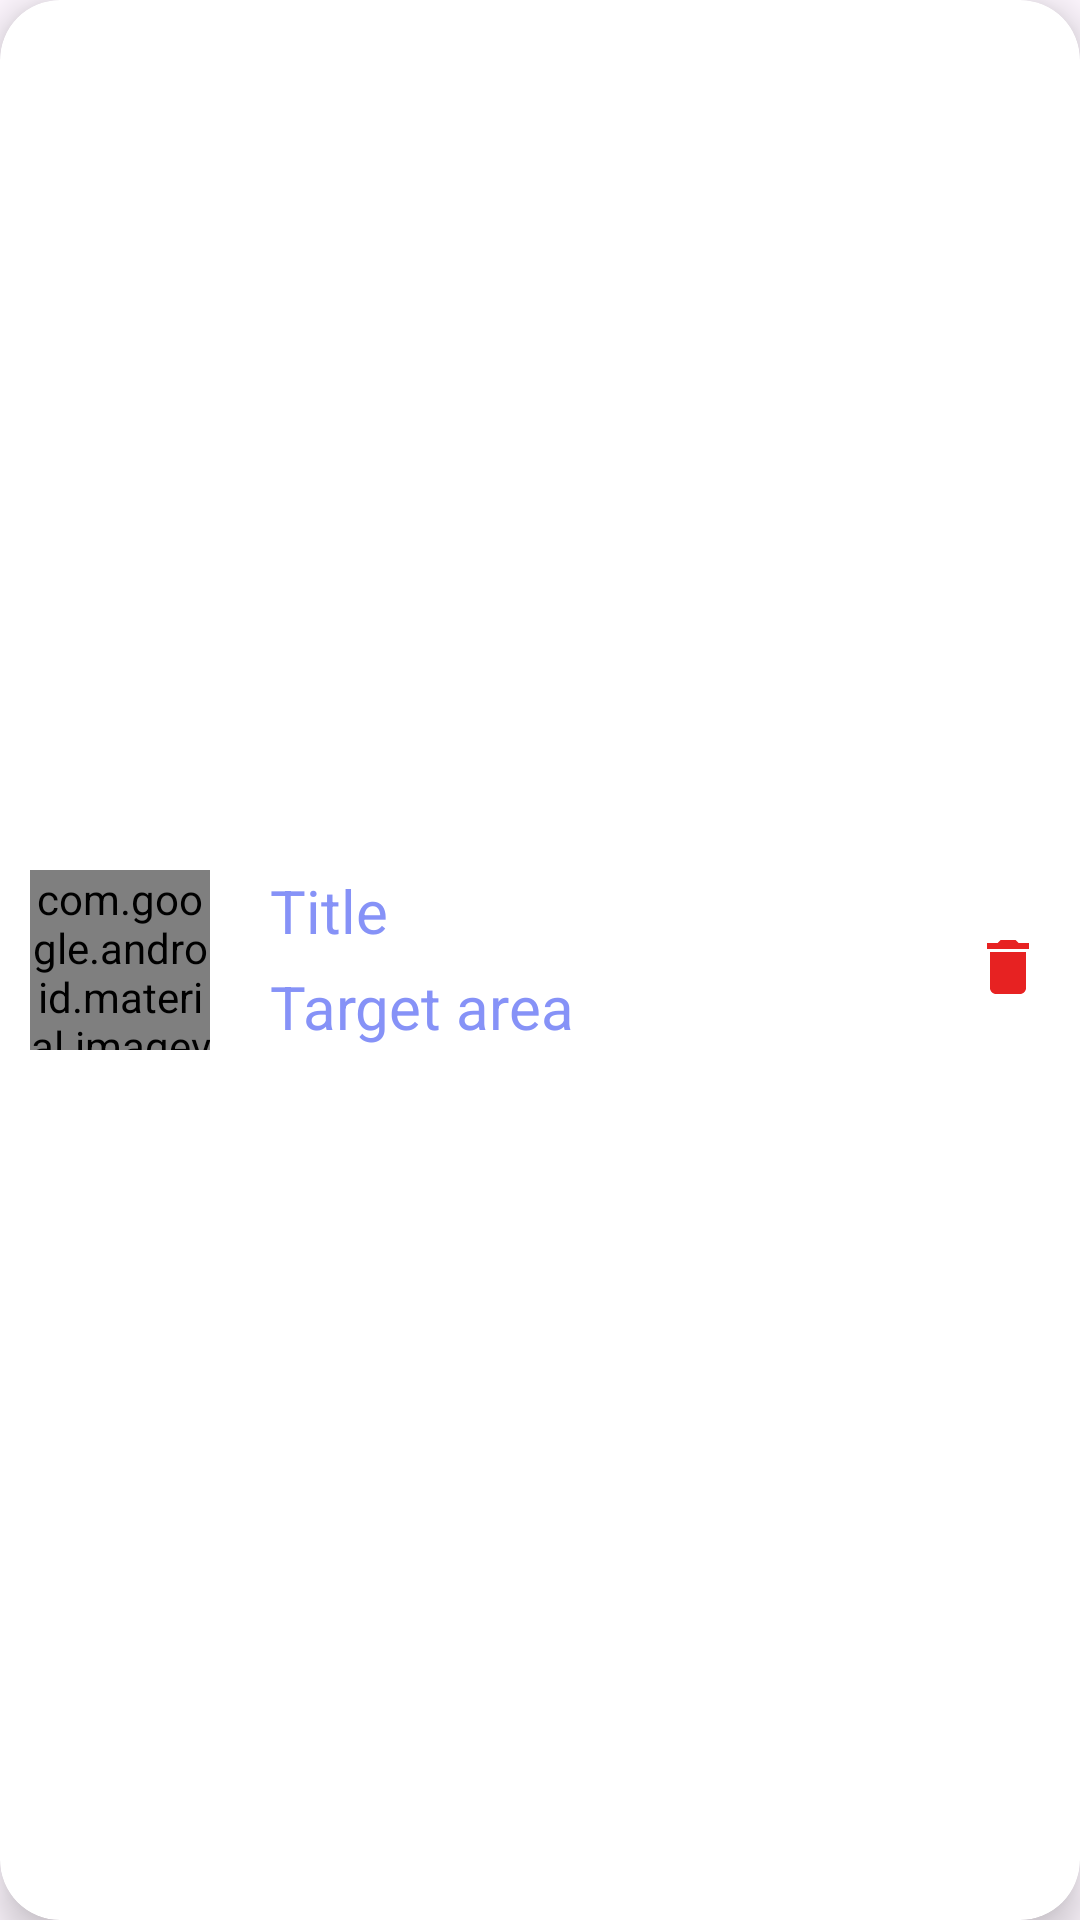

Screen size 1080w x 1920h. Icon name, then its box in pixels as (x1, y1, x2, y2):
delete: (987, 940, 1029, 994)
